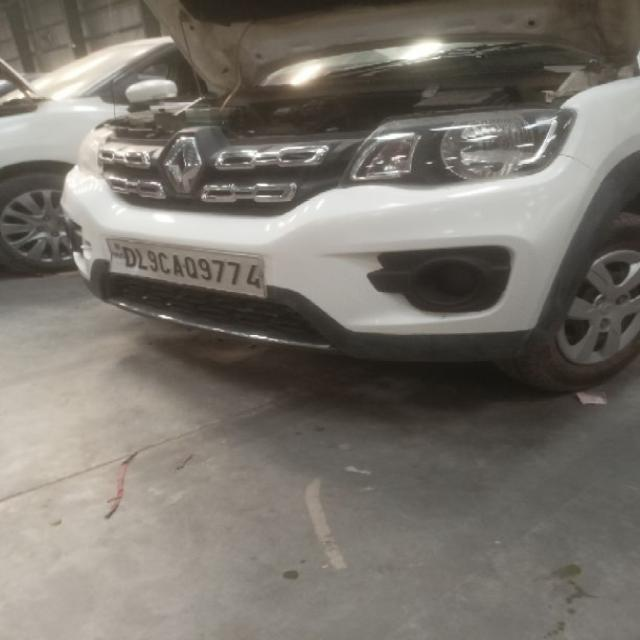license_plate: (105, 237, 268, 299)
